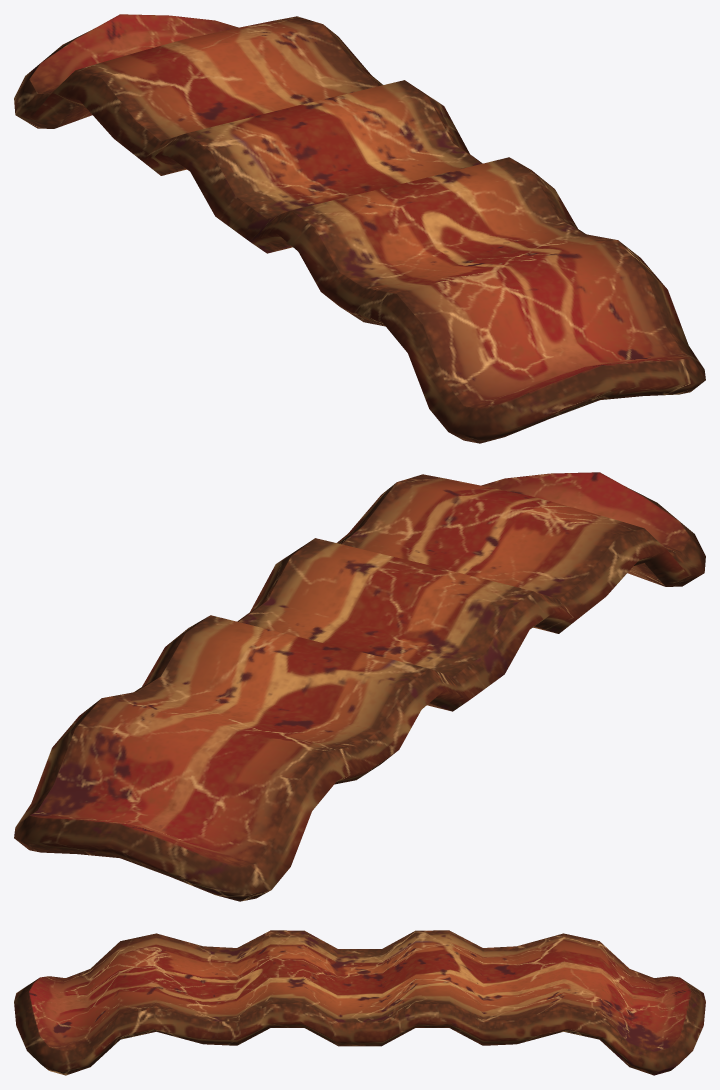
The model's file is Bacon_Burger.fbx.
The picture shows the model from 3 angles, top to bottom: view 1: azimuth 30°, elevation 25°; view 2: azimuth 150°, elevation 25°; view 3: azimuth 270°, elevation 25°; orthographic projection. The views are drawn at different scales.
Parts seen in each view (by area): view 1: Bacon; view 2: Bacon; view 3: Bacon.
Boxes of the visible parts, x1,y1,x2,y2 form: Bacon: (14, 14, 705, 443); Bacon: (14, 472, 705, 901); Bacon: (14, 930, 705, 1075).
Size of the model in its own units: 6.59 by 2.51 by 22.
